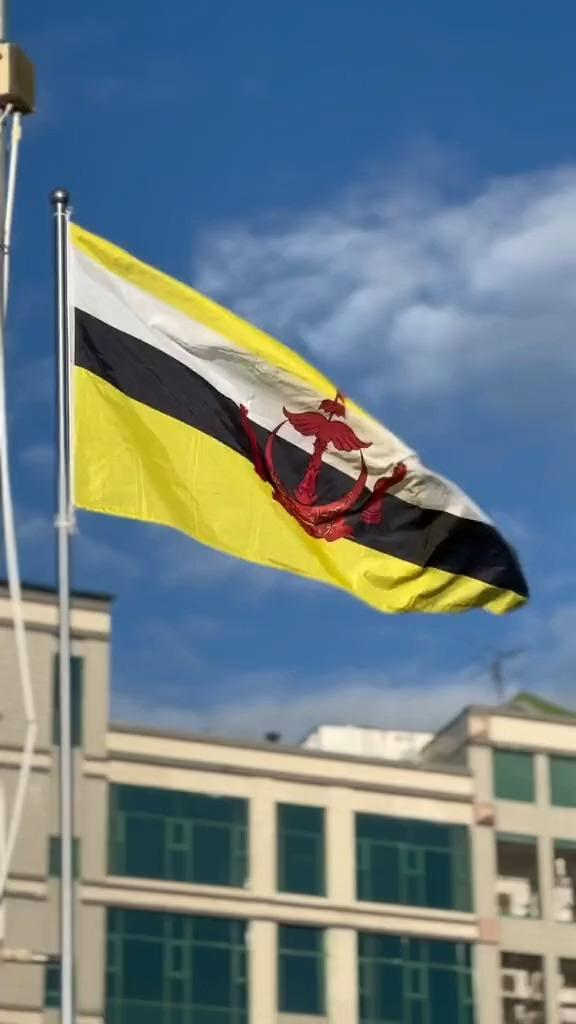Brunei: (66, 221, 529, 615)
